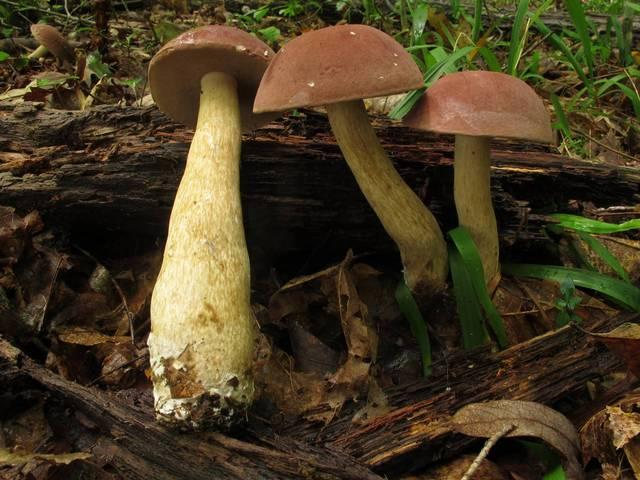poisonous_mushroom: (144, 23, 281, 431), (251, 22, 449, 301), (400, 68, 555, 299)
